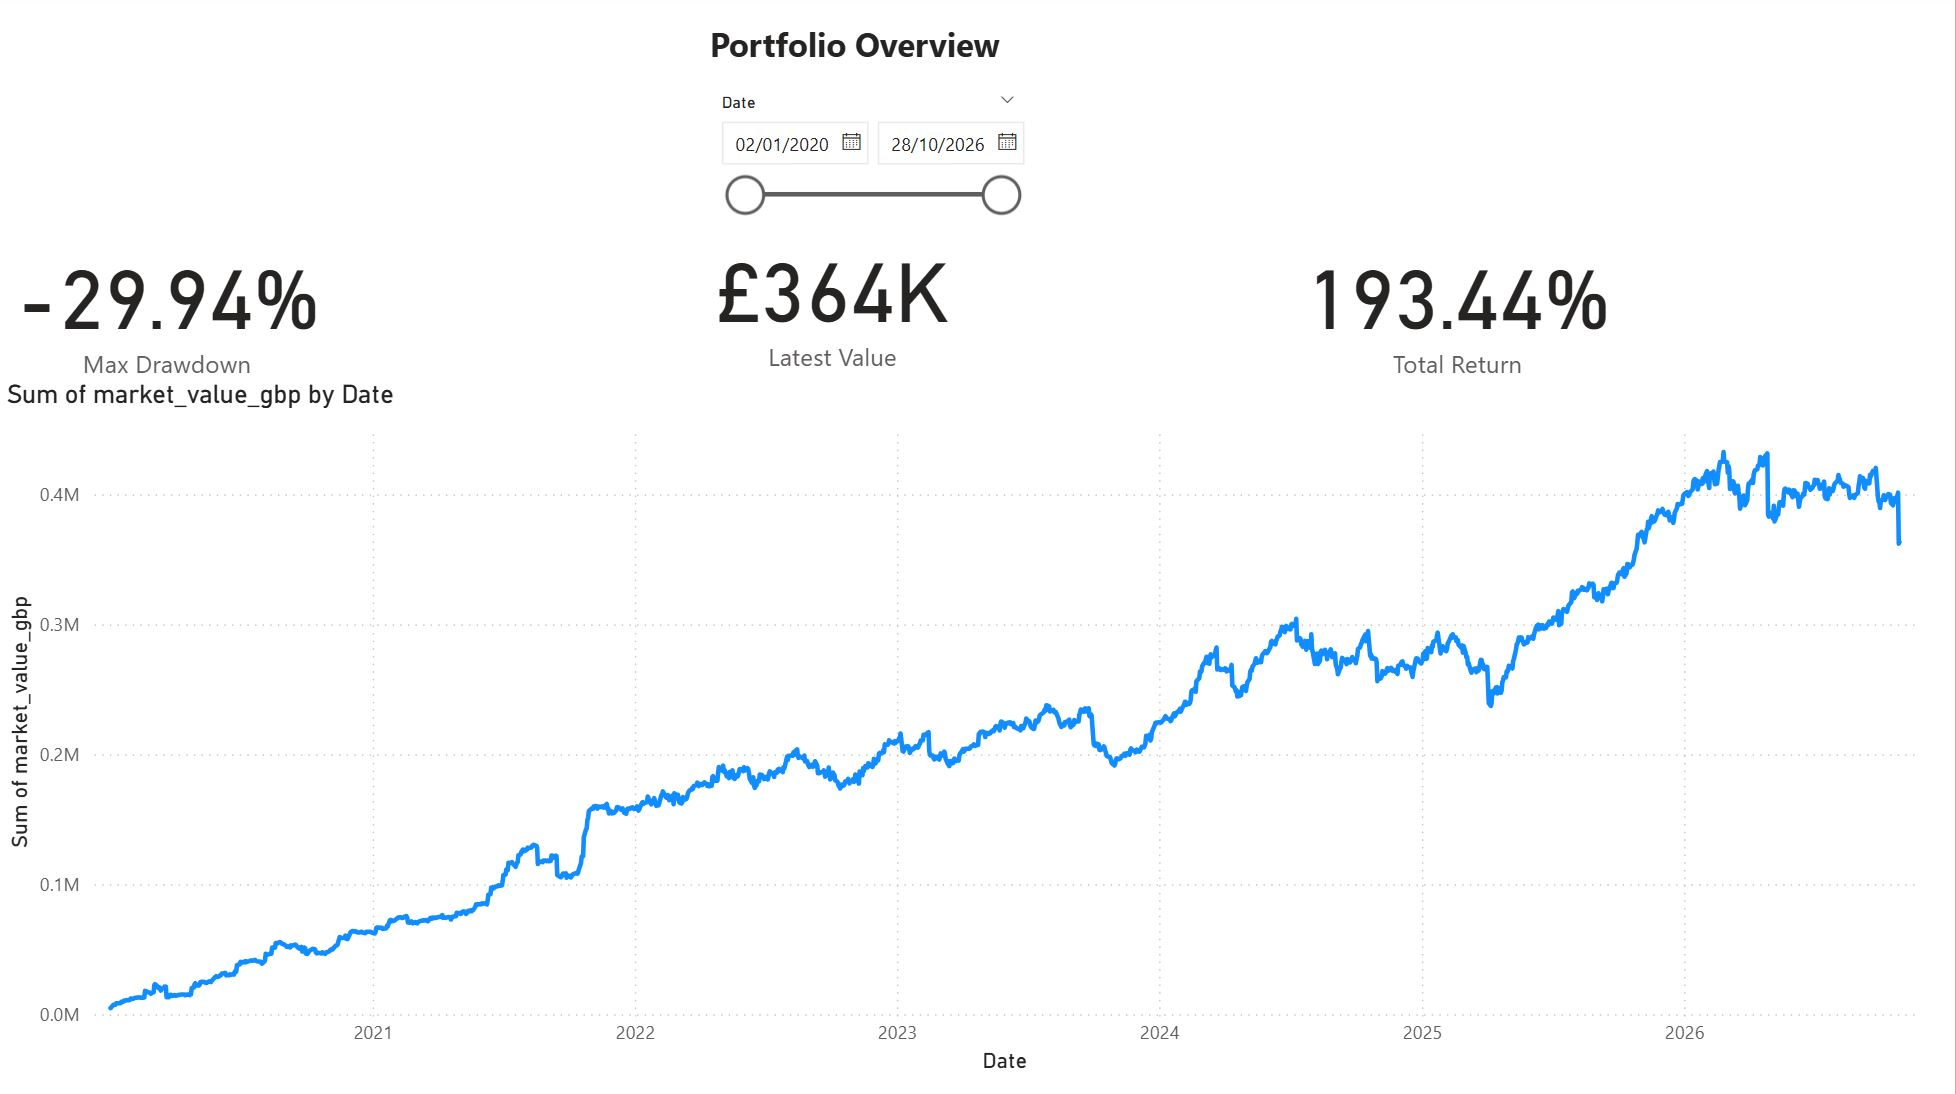

The page's visual inventory and layout, read from the dashboard file:
{"tool":"powerbi","page":{"name":"Overview","canvas":[1280,720],"ordinal":0},"visuals":[{"type":"slicer","fields":{"Values":["dim_calendar.Date"]},"box":[460,58.2,217.3,94.9],"z":0},{"type":"card","fields":{"Values":["_Measures.Max Drawdown"]},"box":[0,148.5,219.9,107.3],"z":1},{"type":"card","fields":{"Values":["_Measures.Latest Value"]},"box":[460,144.6,170.8,106],"z":2},{"type":"card","fields":{"Values":["_Measures.Total Return"]},"box":[848.1,144.6,212.7,115.2],"z":3},{"type":"lineChart","fields":{"Category":["dim_calendar.Date"],"Y":["Sum(portfolio_metrics.market_value_gbp)"]},"box":[0,250.6,1261.7,458.7],"z":4},{"type":"textbox","box":[460,11.8,229,54.3],"z":5}]}

Visuals, with their boxes in screenshot pixels (x1, y1, x2, y2), scaled from the page's 1280x720 canvas onto the 1956x1094 screenshot:
slicer - dim_calendar.Date: BBox(703, 88, 1035, 233)
card - _Measures.Max Drawdown: BBox(0, 226, 336, 389)
card - _Measures.Latest Value: BBox(703, 220, 964, 381)
card - _Measures.Total Return: BBox(1296, 220, 1621, 395)
lineChart - dim_calendar.Date x Sum(portfolio_metrics.market_value_gbp): BBox(0, 381, 1928, 1078)
textbox: BBox(703, 18, 1053, 100)
